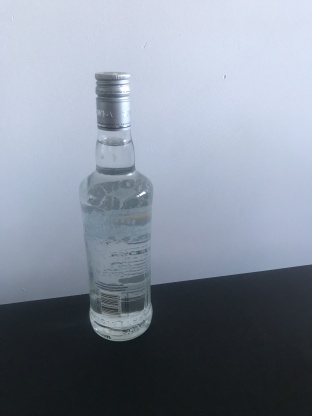nakretka: (92, 71, 134, 133)
